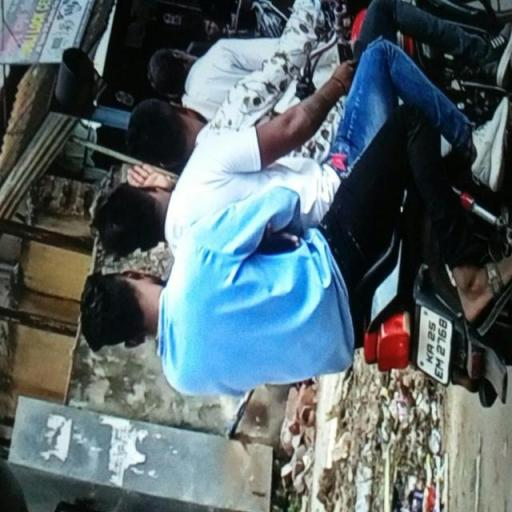tripple riding: (80, 72, 365, 402)
